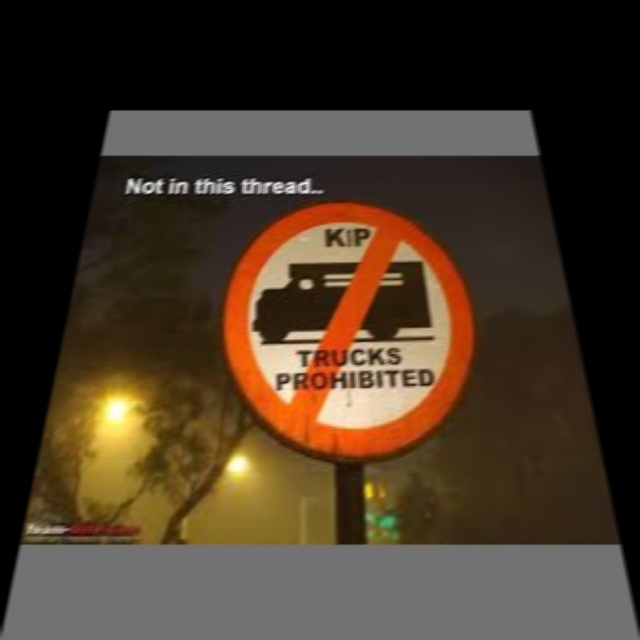Truck_Prohibited: (208, 201, 502, 463)
